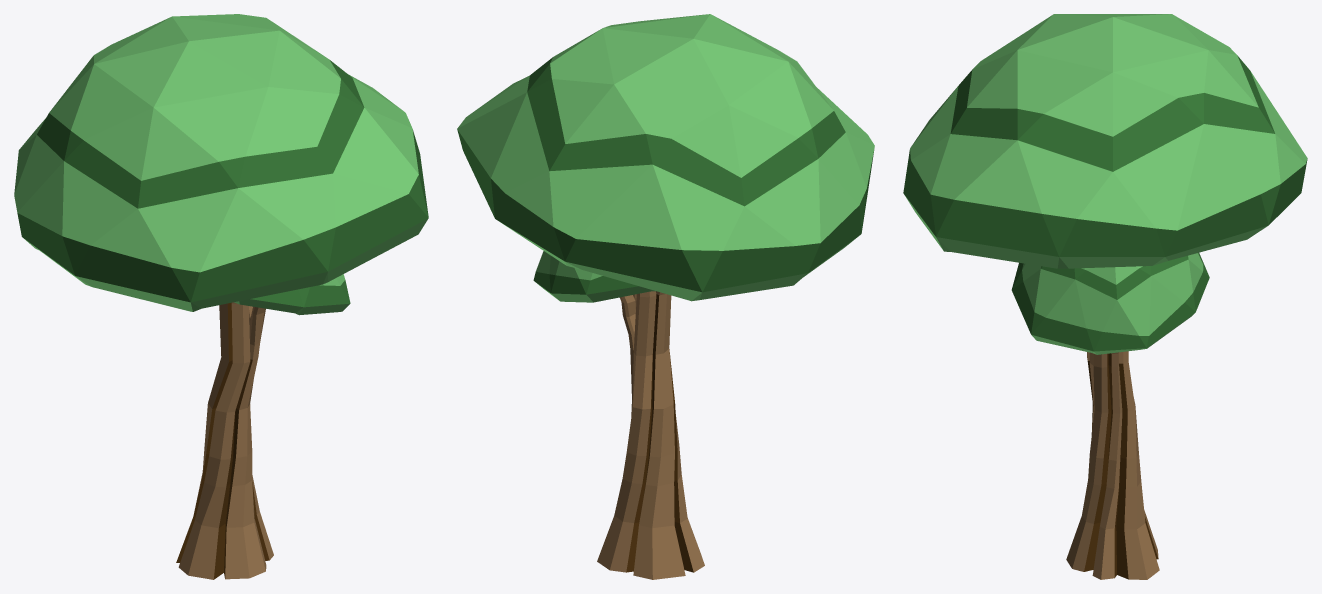
The model's file is tree02.fbx.
3 renders of one model, left to right at view 1: azimuth 30°, elevation 25°; view 2: azimuth 150°, elevation 25°; view 3: azimuth 270°, elevation 25°, orthographic.
Visible parts, largest first — view 1: Icosphere.002, Cylinder, Icosphere; view 2: Icosphere.002, Cylinder, Icosphere; view 3: Icosphere.002, Icosphere, Cylinder.
Boxes of the visible parts, <box> form: Icosphere.002: <box>14,14,428,311</box>; Cylinder: <box>176,302,273,579</box>; Icosphere: <box>234,274,350,315</box>; Icosphere.002: <box>457,14,874,301</box>; Cylinder: <box>597,291,704,579</box>; Icosphere: <box>533,251,655,302</box>; Icosphere.002: <box>903,14,1307,268</box>; Icosphere: <box>1011,252,1209,354</box>; Cylinder: <box>1066,351,1159,579</box>.
Size of the model in its own units: 1923 by 2737 by 1912.
